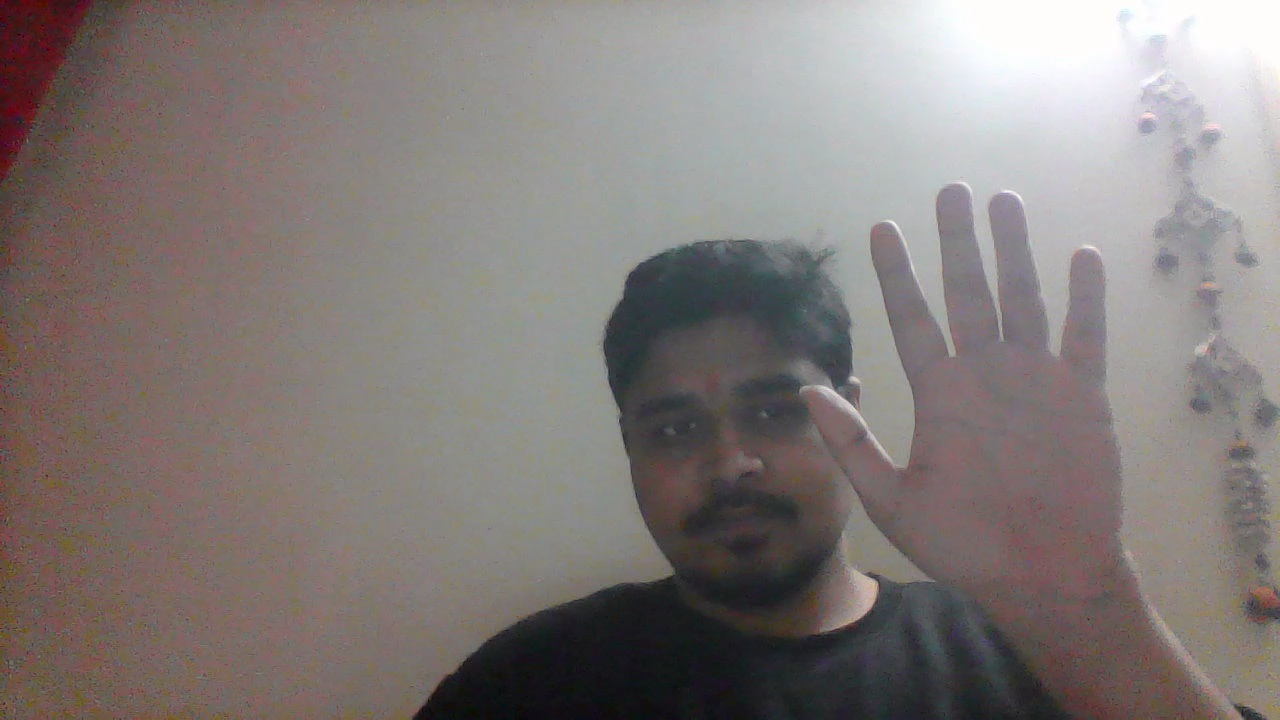Hello: (800, 180, 1144, 720)
